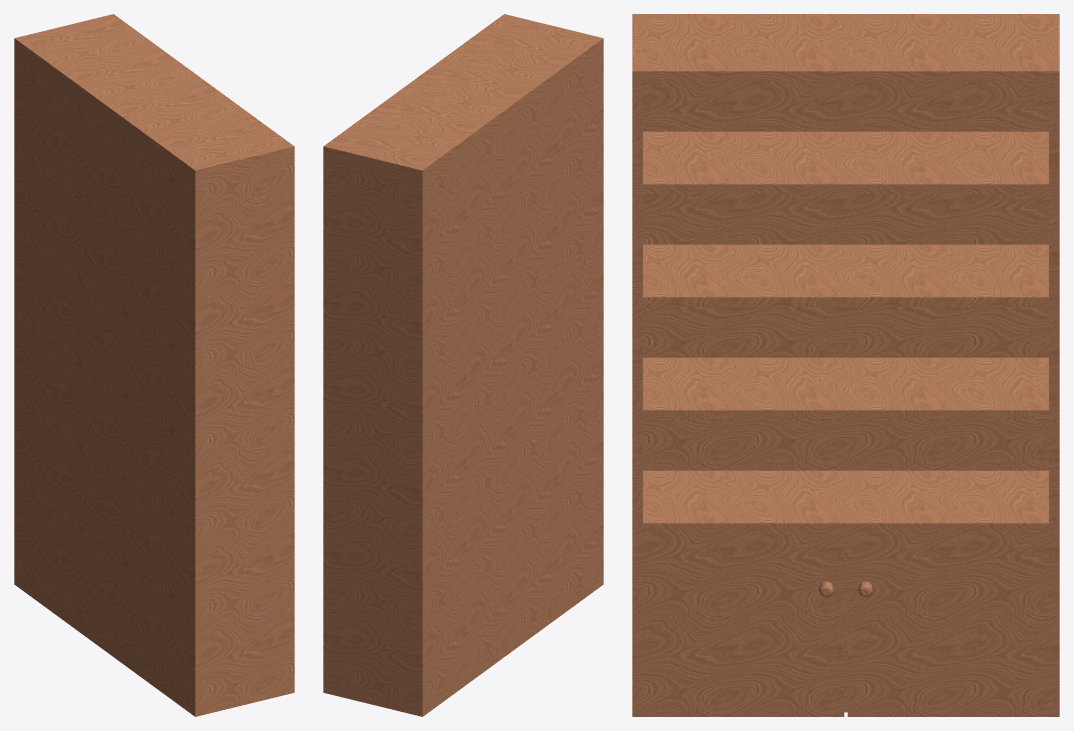
Rendered from bookshelft.dae.
3 renders of one model, left to right at view 1: azimuth 30°, elevation 25°; view 2: azimuth 150°, elevation 25°; view 3: azimuth 270°, elevation 25°, orthographic. The views are drawn at different scales.
Parts seen in each view (by area): view 1: skp9528; view 2: skp9528; view 3: skp9528 (×5).
Part boxes in pixels (x1,y1,x2,y2): skp9528: (14,14,294,716); skp9528: (323,14,603,716); skp9528 (×5): (632,14,1059,716).
Size of the model in its own units: 16.14 by 47.24 by 78.74.
Materials: 1 (1 with a texture image).
